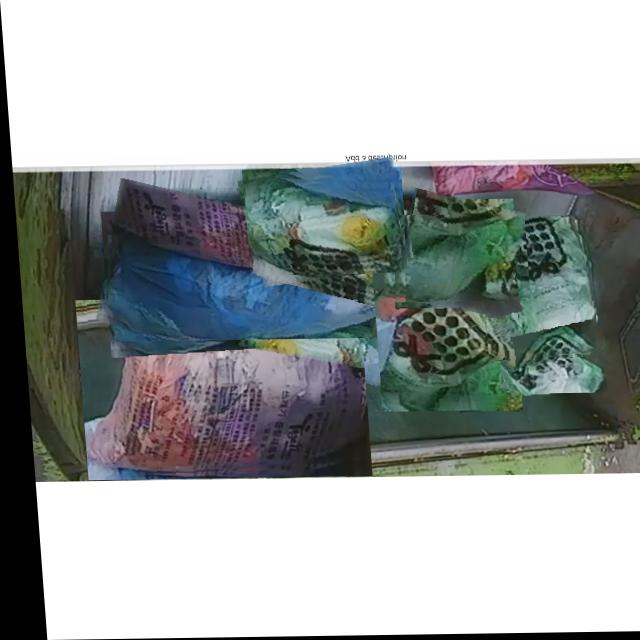general_trashbag: (371, 252, 506, 410), (477, 218, 591, 358), (242, 177, 403, 275), (392, 216, 521, 303), (503, 335, 599, 390)
other_trashbag: (81, 300, 361, 472), (102, 236, 406, 340)
